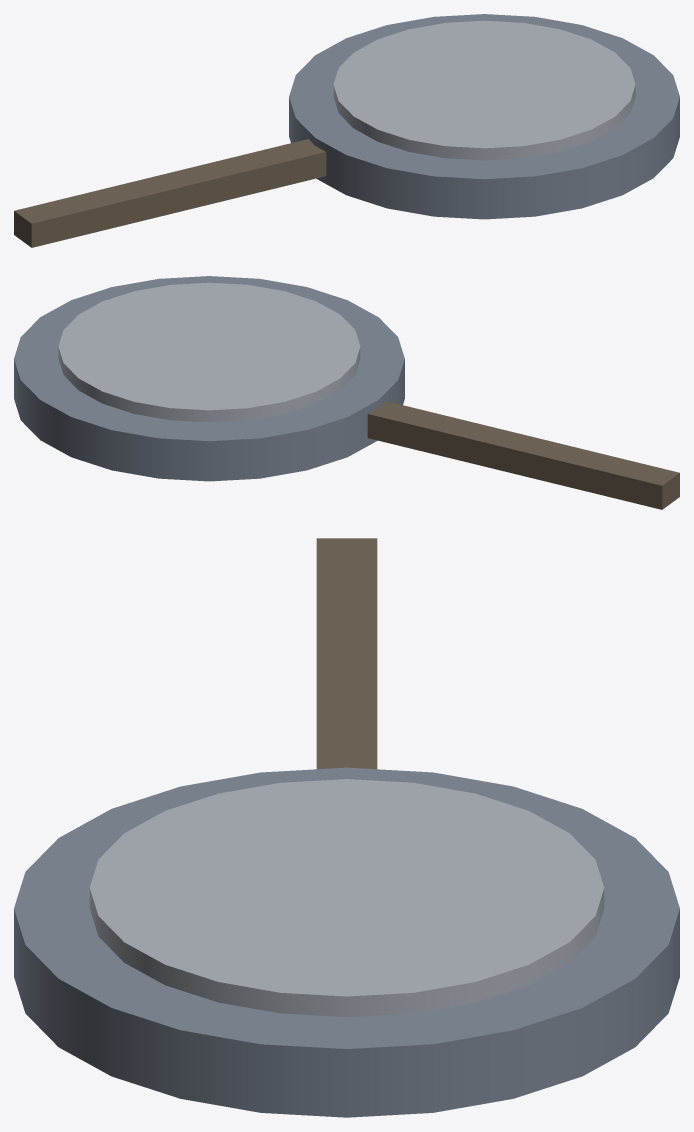
Rendered from weapon_pan.glb.
3 renders of one model, top to bottom at view 1: azimuth 30°, elevation 25°; view 2: azimuth 150°, elevation 25°; view 3: azimuth 270°, elevation 25°, orthographic. The views are drawn at different scales.
Visible parts, largest first — view 1: weapon_pan; view 2: weapon_pan; view 3: weapon_pan.
Boxes of the visible parts, bbox=[...] form: weapon_pan: bbox=[14, 14, 679, 247]; weapon_pan: bbox=[14, 276, 679, 509]; weapon_pan: bbox=[14, 538, 679, 1117].
Bounding box in the file's own units: 0.82 × 0.065 × 0.44.
